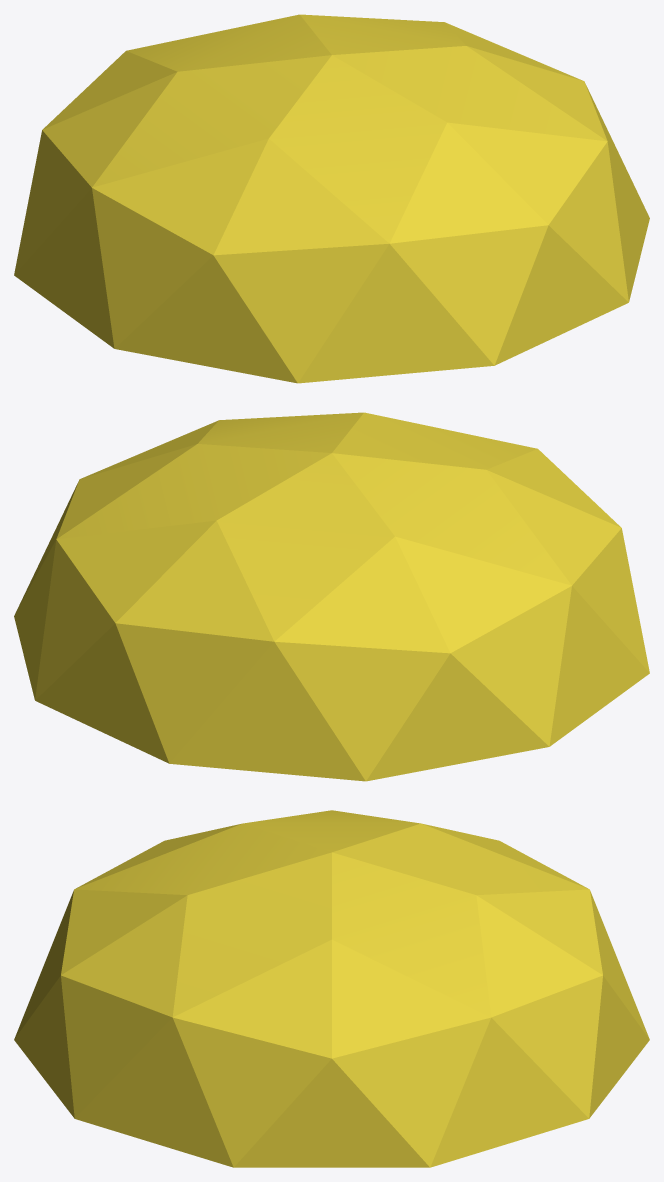
Rendered from Hangar Circular escalado.fbx.
3 views of the same model, one above another, from view 1: azimuth 30°, elevation 25°; view 2: azimuth 150°, elevation 25°; view 3: azimuth 270°, elevation 25° (orthographic). The views are drawn at different scales.
Visible parts, largest first — view 1: Techo; view 2: Techo; view 3: Techo.
Part boxes in pixels (bbox=[...]): Techo: bbox=[14, 14, 649, 383]; Techo: bbox=[14, 412, 649, 781]; Techo: bbox=[14, 810, 649, 1167].
Bounding box in the file's own units: 16737 × 5770 × 17598.
